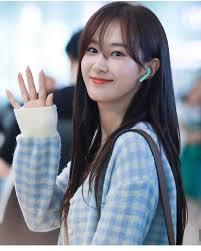earphone: (137, 64, 153, 85)
